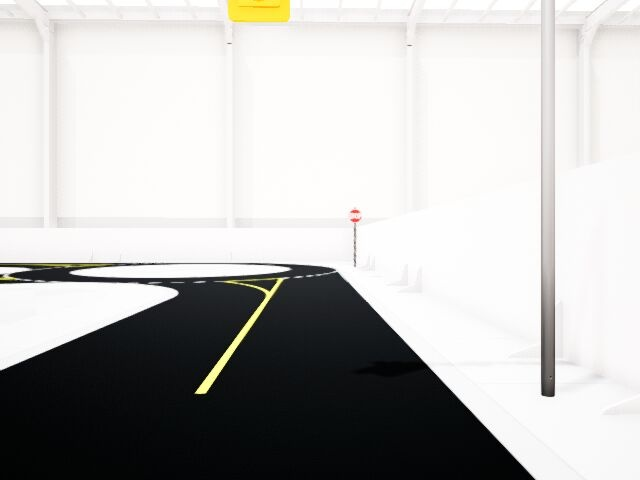stopsign: (348, 207, 362, 224)
